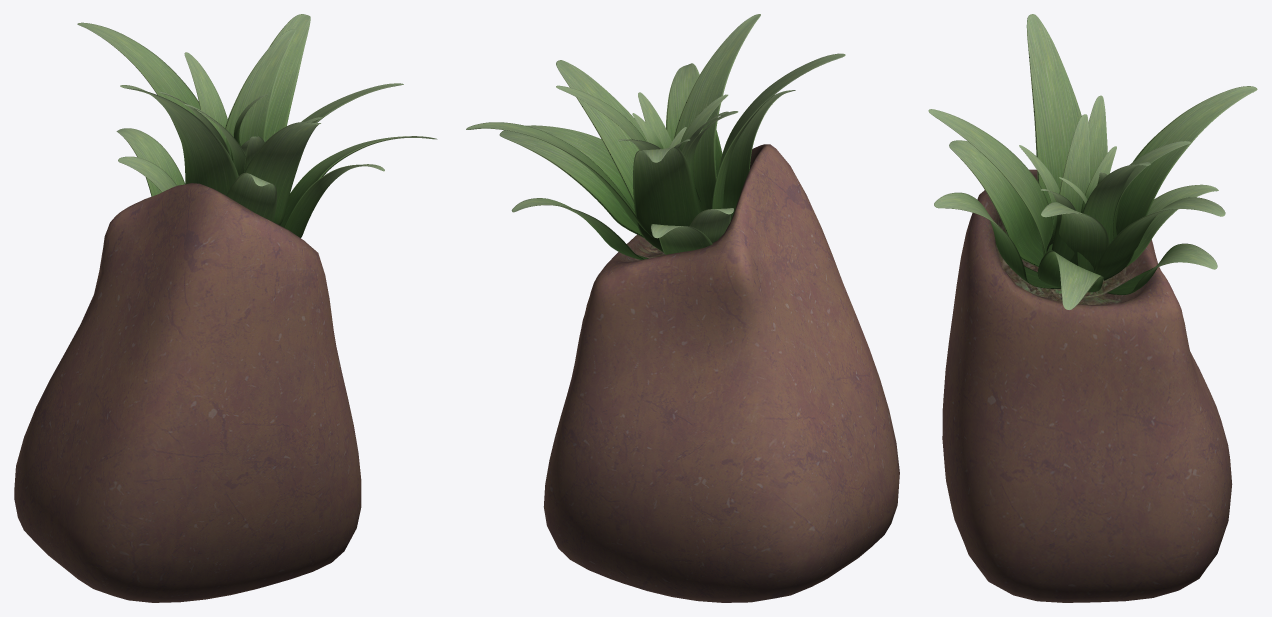
Rendered from plant-interior-decoration.glb.
3 renders of one model, left to right at view 1: azimuth 30°, elevation 25°; view 2: azimuth 150°, elevation 25°; view 3: azimuth 270°, elevation 25°, orthographic. The views are drawn at different scales.
Parts seen in each view (by area): view 1: polySurface23; view 2: polySurface23; view 3: polySurface23.
Boxes of the visible parts, x1,y1,x2,y2 form: polySurface23: (14, 14, 437, 602); polySurface23: (466, 14, 899, 602); polySurface23: (928, 14, 1257, 602).
Size of the model in its own units: 0.2865 by 0.3781 by 0.2246.
Materials: 2 (2 with a texture image).
